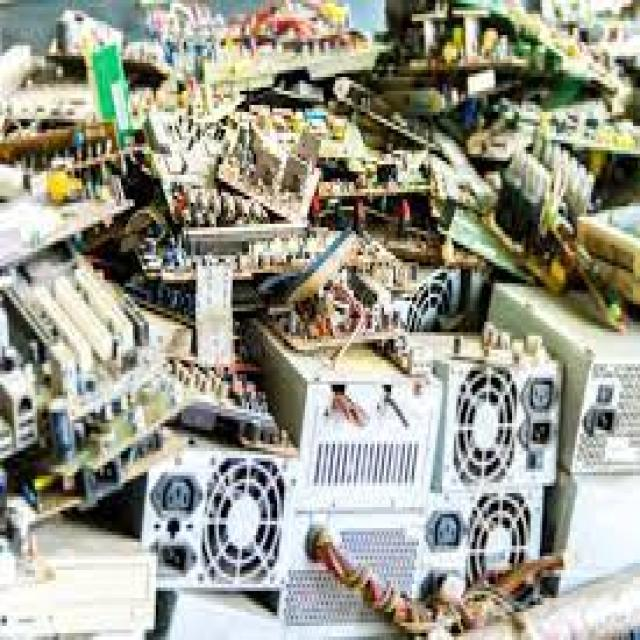Hazard: (11, 16, 640, 637)
